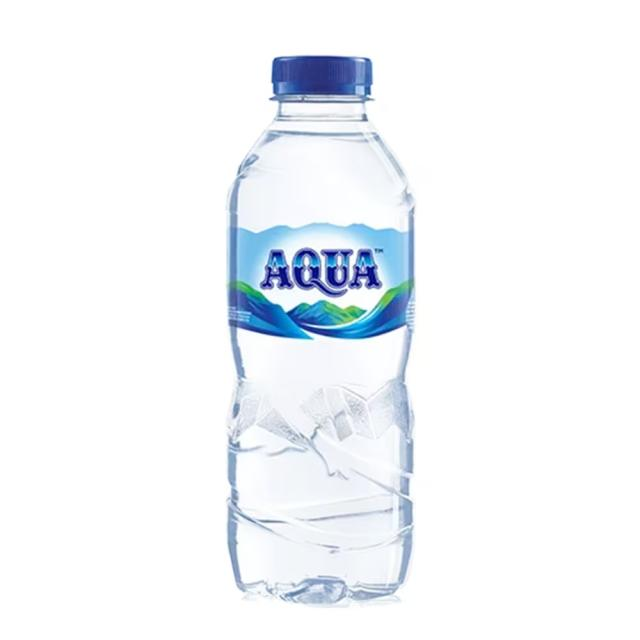bottle: (222, 53, 418, 607)
